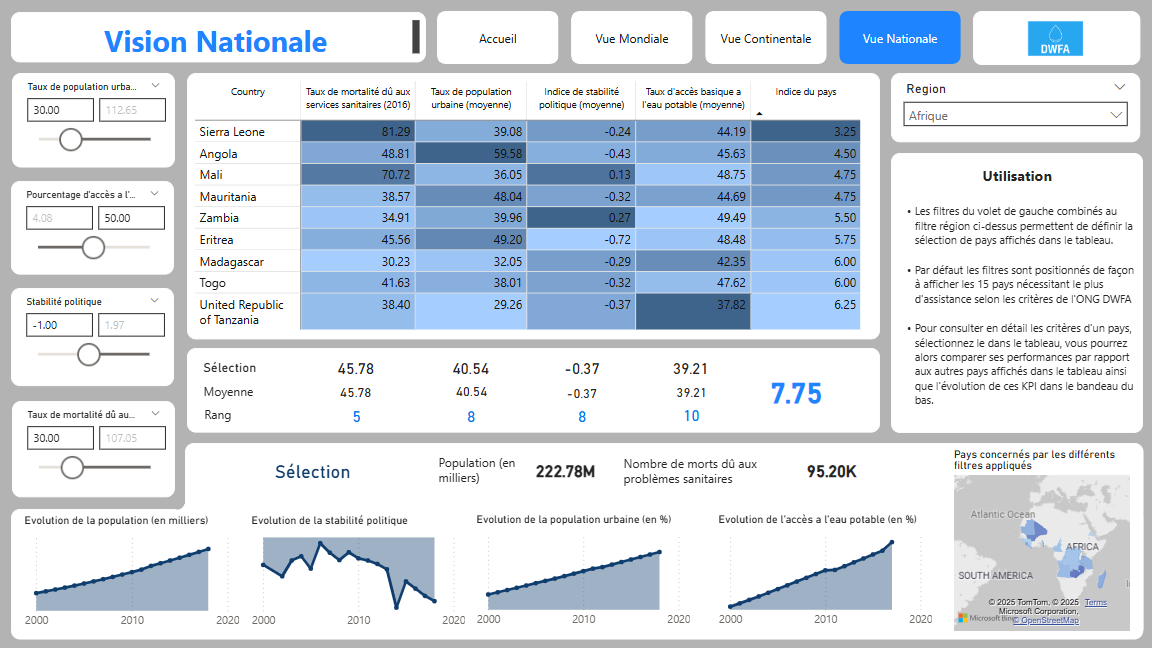

The page's visual inventory and layout, read from the dashboard file:
{"tool":"powerbi","page":{"name":"Vue Nationale","canvas":[1280,720],"ordinal":3},"visuals":[{"type":"shape","box":[205,492,1065,216],"z":0},{"type":"shape","box":[208,387,770.1,93.9],"z":1000},{"type":"textbox","box":[12.3,13.2,460.6,56.4],"z":2000},{"type":"slicer","fields":{"Values":["PoliticalStability.Political_Stability"]},"box":[12,320,181,109],"z":3000},{"type":"pivotTable","fields":{"Values":["Mesures.AvgMortalityRate","Population.Population urbaine %","Avg(PoliticalStability.Political_Stability)","Avg(BasicAndSafelyManagedDrinkingWaterServices.Population using at least basic drinking-water services (%))","Mesures.Moyenne"],"Rows":["RegionCountry.Country"]},"box":[208,81,770,296],"z":4000},{"type":"slicer","fields":{"Values":["RegionCountry.Region"]},"box":[990,81,277,77],"z":5000},{"type":"slicer","fields":{"Values":["Population_v2.Urban %"]},"box":[13,81,181,105],"z":6000},{"type":"slicer","fields":{"Values":["MortalityRateAttributedToWater.Mortality rate attributed to exposure to unsafe WASH services"]},"box":[13,446,181,107],"z":7000},{"type":"slicer","fields":{"Values":["BasicAndSafelyManagedDrinkingWaterServices.Population using at least basic drinking-water services (%)"]},"box":[12,201,181,104],"z":8000},{"type":"card","fields":{"Values":["Mesures.Pays Sélectionné"]},"box":[209,387,93,46],"z":9000},{"type":"card","fields":{"Values":["Avg(MortalityRateAttributedToWater.Mortality rate attributed to exposure to unsafe WASH services)"]},"box":[356.4,390.6,77,38],"z":10000},{"type":"card","fields":{"Values":["Mesures.AverageBasicAccess"]},"box":[729.3,391.2,77,38],"z":11000},{"type":"card","fields":{"Values":["Population.Population urbaine %"]},"box":[484.6,390.9,77,38],"z":12000},{"type":"card","fields":{"Values":["Mesures.AvgPoliticalStability"]},"box":[608.1,391.2,77,38],"z":13000},{"type":"card","fields":{"Values":["Mesures.Country Rank"]},"box":[357.4,444.6,76,38],"z":14000},{"type":"card","fields":{"Values":["Mesures.BasicAccessRank"]},"box":[730.3,443.2,76,38],"z":15000},{"type":"card","fields":{"Values":["Mesures.UrbanRanking"]},"box":[485.6,443.9,76,38],"z":16000},{"type":"card","fields":{"Values":["Mesures.PoliticalStabilityRank"]},"box":[609.1,444.2,76,38],"z":17000},{"type":"card","fields":{"Values":["Mesures.Country_rating"]},"box":[841.6,406.2,87.5,55.5],"z":18000},{"type":"textbox","box":[204,447,75,34],"z":19000},{"type":"card","fields":{"Values":["Mesures.Moyenne"]},"box":[212,420,83,35],"z":20000},{"type":"card","fields":{"Values":["Avg(MortalityRateAttributedToWater.Mortality rate attributed to exposure to unsafe WASH services)"]},"box":[356.4,417.6,77,38],"z":21000},{"type":"card","fields":{"Values":["Mesures.AverageBasicAccess"]},"box":[730.3,418.2,77,38],"z":22000},{"type":"card","fields":{"Values":["Population.Population urbaine %"]},"box":[485.6,416.9,77,38],"z":23000},{"type":"card","fields":{"Values":["Mesures.AvgPoliticalStability"]},"box":[608.1,419.2,77,38],"z":24000},{"type":"shape","box":[990,170,280,311],"z":25000},{"type":"shape","box":[12,566,1258,145],"z":26000},{"type":"shape","box":[195.9,559,12.2,12.2],"z":27000},{"type":"shape","box":[187.5,537.4,20.6,41.9],"z":28000},{"type":"areaChart","title":"Evolution de la population (en milliers)","fields":{"Y":["Sum(Population.Population (en milliers))"],"Category":["Population.Year"]},"box":[22.4,570.7,248.5,136.5],"z":29000},{"type":"areaChart","title":"Evolution de la stabilité politique","fields":{"Y":["Avg(PoliticalStability.Political_Stability)"],"Category":["PoliticalStability.Year"]},"box":[274.1,570.7,247.5,136.5],"z":30000},{"type":"filledMap","title":"Pays concernés par les différents filtres appliqués","fields":{"Category":["RegionCountry.Country"]},"box":[1051,493,211,215],"z":31000},{"type":"card","fields":{"Values":["Mesures.Pays Sélectionné"]},"box":[221.9,501.3,250.7,44.8],"z":32000},{"type":"card","fields":{"Values":["Sum(Population.Population (unité))"]},"box":[589.9,487.5,76.8,72.5],"z":33000},{"type":"areaChart","title":"Evolution de la population urbaine (en %)","fields":{"Category":["Population.Year"],"Y":["Population.Population urbaine %"]},"box":[524.8,569.6,247.5,136.5],"z":34000},{"type":"card","fields":{"Values":["Sum(MortalityRateAttributedToWater.WASH deaths)"]},"box":[885.3,491.7,76.8,64],"z":35000},{"type":"textbox","box":[482.1,500.3,110.9,54.4],"z":36000},{"type":"textbox","box":[688,501.3,177.1,54.4],"z":37000},{"type":"areaChart","title":"Evolution de l''accès a l''eau potable (en %)","fields":{"Category":["BasicAndSafelyManagedDrinkingWaterServices.Year"],"Y":["Avg(BasicAndSafelyManagedDrinkingWaterServices.Population using at least basic drinking-water services (%))"]},"box":[793.6,569.6,247.5,136.5],"z":38000},{"type":"textbox","box":[999,179,263,34],"z":39000},{"type":"textbox","box":[993,221,273,253],"z":40000},{"type":"pageNavigator","box":[486,12,585,59],"z":41000},{"type":"shape","box":[1081,12,186,60],"z":42000},{"type":"image","box":[1081,13,186,60],"z":43000}]}

Visuals, with their boxes in screenshot pixels (x1, y1, x2, y2), scaled from the page's 1280x720 canvas onto the 1152x648 screenshot:
shape: (left=184, top=443, right=1143, bottom=637)
shape: (left=187, top=348, right=880, bottom=433)
textbox: (left=11, top=12, right=426, bottom=63)
slicer - PoliticalStability.Political_Stability: (left=11, top=288, right=174, bottom=386)
pivotTable - Mesures.AvgMortalityRate x Population.Population urbaine %: (left=187, top=73, right=880, bottom=339)
slicer - RegionCountry.Region: (left=891, top=73, right=1140, bottom=142)
slicer - Population_v2.Urban %: (left=12, top=73, right=175, bottom=167)
slicer - MortalityRateAttributedToWater.Mortality rate attributed to exposure to unsafe WASH services: (left=12, top=401, right=175, bottom=498)
slicer - BasicAndSafelyManagedDrinkingWaterServices.Population using at least basic drinking-water services (%): (left=11, top=181, right=174, bottom=274)
card - Mesures.Pays Sélectionné: (left=188, top=348, right=272, bottom=390)
card - Avg(MortalityRateAttributedToWater.Mortality rate attributed to exposure to unsafe WASH services): (left=321, top=352, right=390, bottom=386)
card - Mesures.AverageBasicAccess: (left=656, top=352, right=726, bottom=386)
card - Population.Population urbaine %: (left=436, top=352, right=505, bottom=386)
card - Mesures.AvgPoliticalStability: (left=547, top=352, right=617, bottom=386)
card - Mesures.Country Rank: (left=322, top=400, right=390, bottom=434)
card - Mesures.BasicAccessRank: (left=657, top=399, right=726, bottom=433)
card - Mesures.UrbanRanking: (left=437, top=400, right=505, bottom=434)
card - Mesures.PoliticalStabilityRank: (left=548, top=400, right=617, bottom=434)
card - Mesures.Country_rating: (left=757, top=366, right=836, bottom=416)
textbox: (left=184, top=402, right=251, bottom=433)
card - Mesures.Moyenne: (left=191, top=378, right=266, bottom=410)
card - Avg(MortalityRateAttributedToWater.Mortality rate attributed to exposure to unsafe WASH services): (left=321, top=376, right=390, bottom=410)
card - Mesures.AverageBasicAccess: (left=657, top=376, right=727, bottom=411)
card - Population.Population urbaine %: (left=437, top=375, right=506, bottom=409)
card - Mesures.AvgPoliticalStability: (left=547, top=377, right=617, bottom=411)
shape: (left=891, top=153, right=1143, bottom=433)
shape: (left=11, top=509, right=1143, bottom=640)
shape: (left=176, top=503, right=187, bottom=514)
shape: (left=169, top=484, right=187, bottom=521)
"Evolution de la population (en milliers)" areaChart: (left=20, top=514, right=244, bottom=636)
"Evolution de la stabilité politique" areaChart: (left=247, top=514, right=469, bottom=636)
"Pays concernés par les différents filtres appliqués" filledMap: (left=946, top=444, right=1136, bottom=637)
card - Mesures.Pays Sélectionné: (left=200, top=451, right=425, bottom=491)
card - Sum(Population.Population (unité)): (left=531, top=439, right=600, bottom=504)
"Evolution de la population urbaine (en %)" areaChart: (left=472, top=513, right=695, bottom=635)
card - Sum(MortalityRateAttributedToWater.WASH deaths): (left=797, top=443, right=866, bottom=500)
textbox: (left=434, top=450, right=534, bottom=499)
textbox: (left=619, top=451, right=779, bottom=500)
"Evolution de l''accès a l''eau potable (en %)" areaChart: (left=714, top=513, right=937, bottom=635)
textbox: (left=899, top=161, right=1136, bottom=192)
textbox: (left=894, top=199, right=1139, bottom=427)
pageNavigator: (left=437, top=11, right=964, bottom=64)
shape: (left=973, top=11, right=1140, bottom=65)
image: (left=973, top=12, right=1140, bottom=66)
